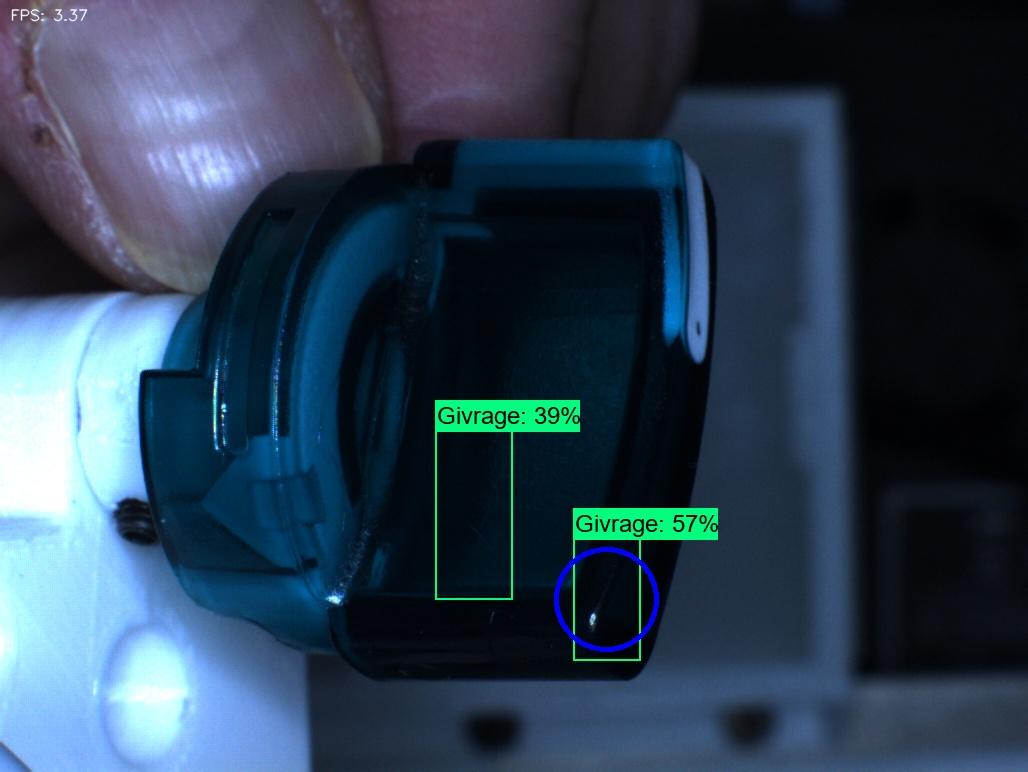PointNoir: (664, 278, 739, 377)
